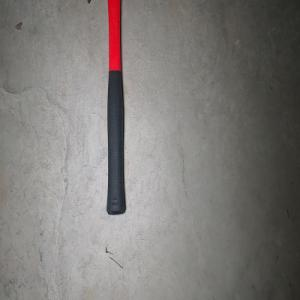Hammer: (88, 0, 146, 216)
